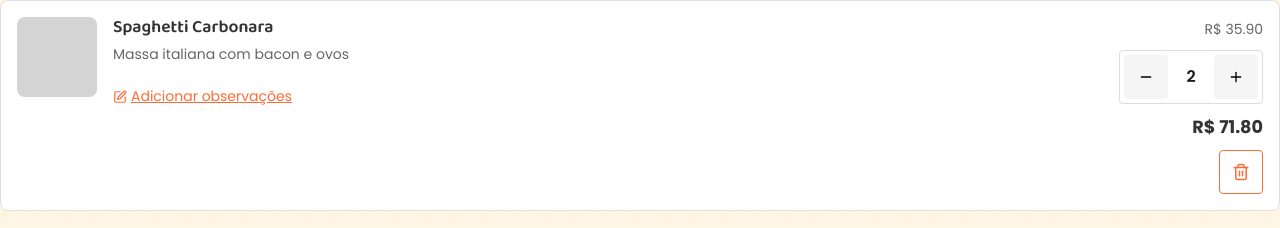
Test case: CartItem › deve mostrar o campo de edição de observações quando clicar em adicionar observações
Click the button with aria-label "Editar observações".
click(202, 97)  # box [113,75,292,119]
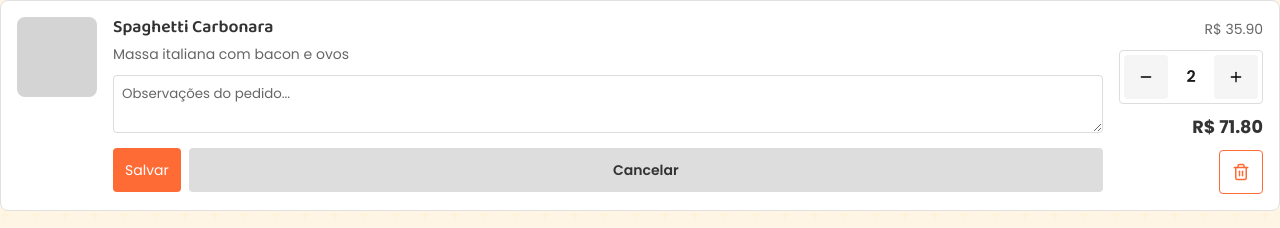
Expected: the text box with placeholder "Observações do pedido..." is shown, [113,75,1103,133]
